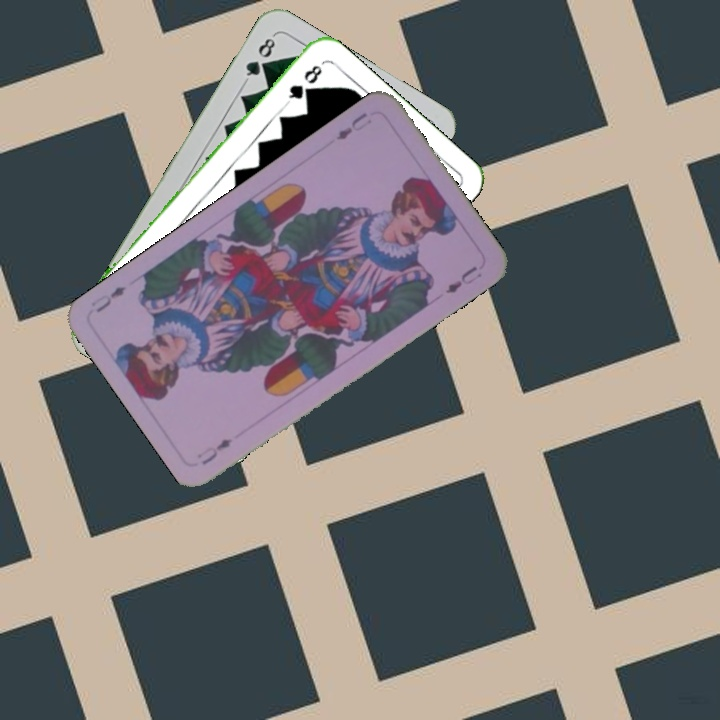EU: (331, 108, 375, 143), (192, 434, 235, 468)
G8: (281, 61, 325, 107), (241, 31, 278, 84)
